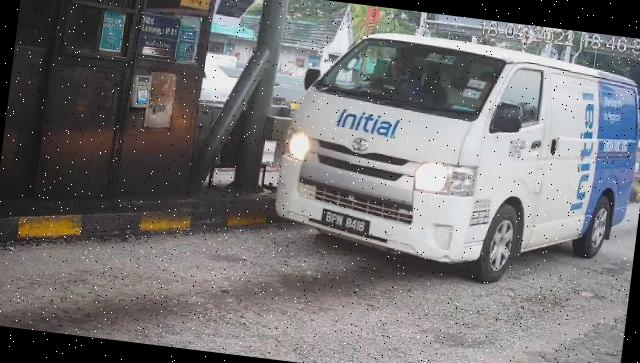License_Plate: (319, 208, 374, 240)
van: (269, 21, 640, 299)
